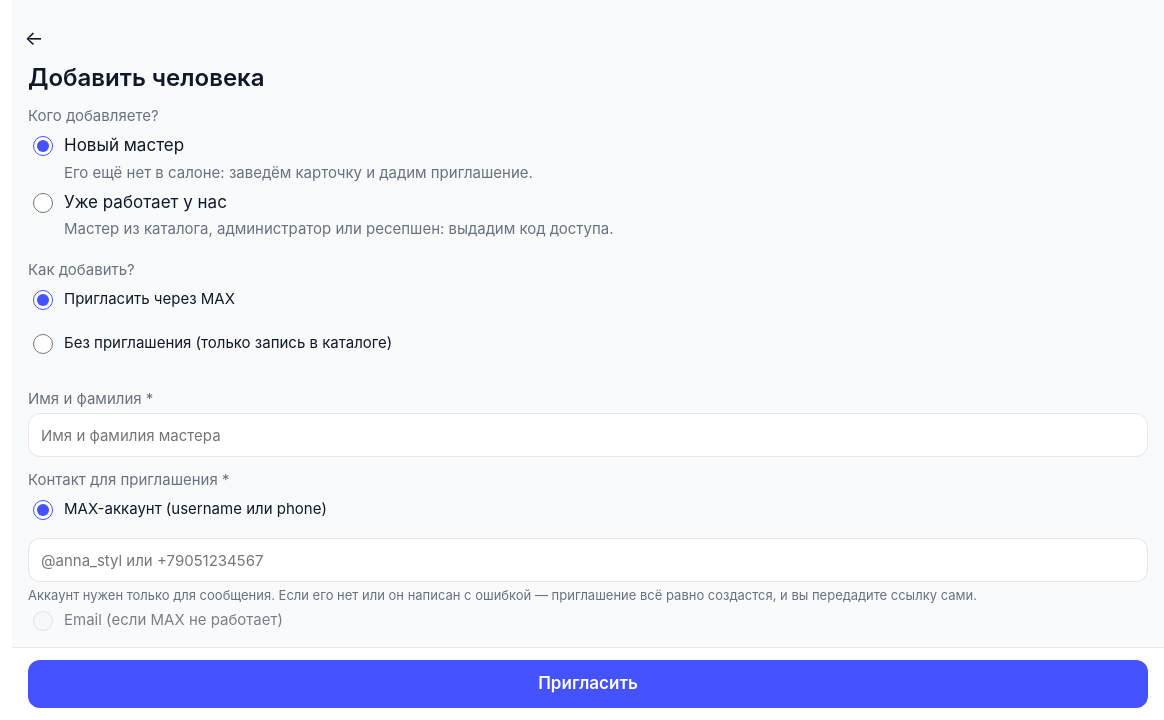
ссылка-приглашение › называет, почему веб-адреса нет, а не прячет блок (DRF-1079)
In the field labelled "Имя и фамилия *": (588, 435) [28,413,1148,457], type "Анна Петрова"
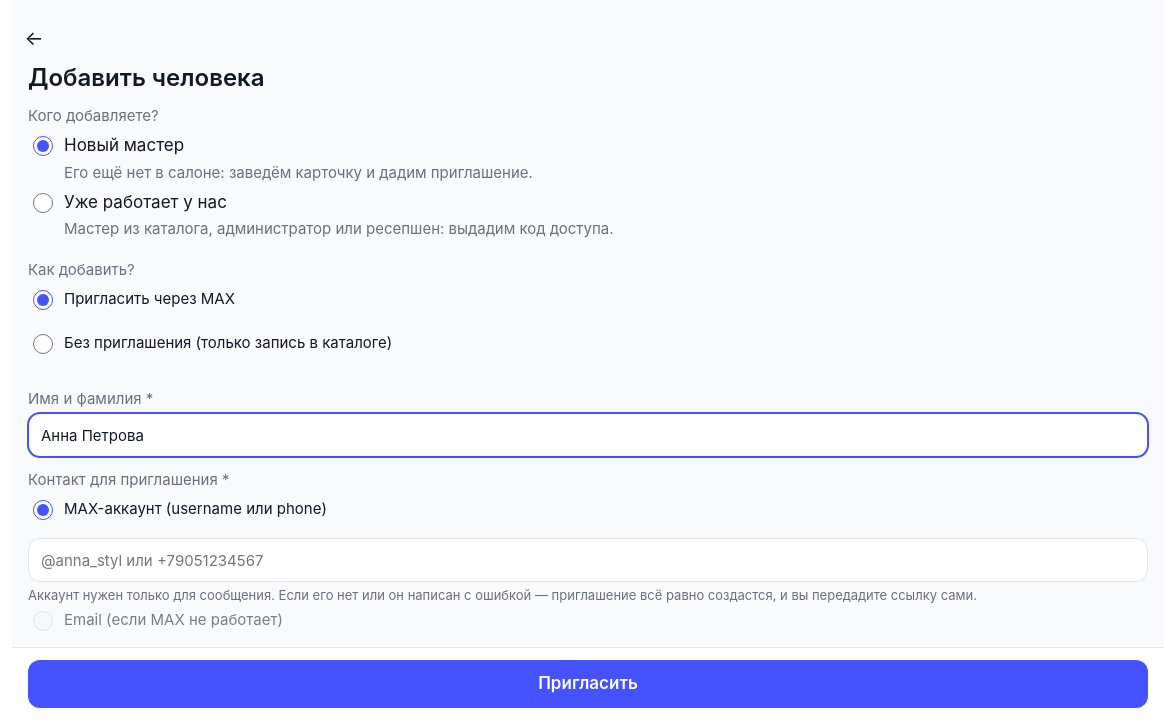
In the field with placeholder "@anna_styl или +79051234567": (588, 560) [28,538,1148,582], type "@anna_styl"
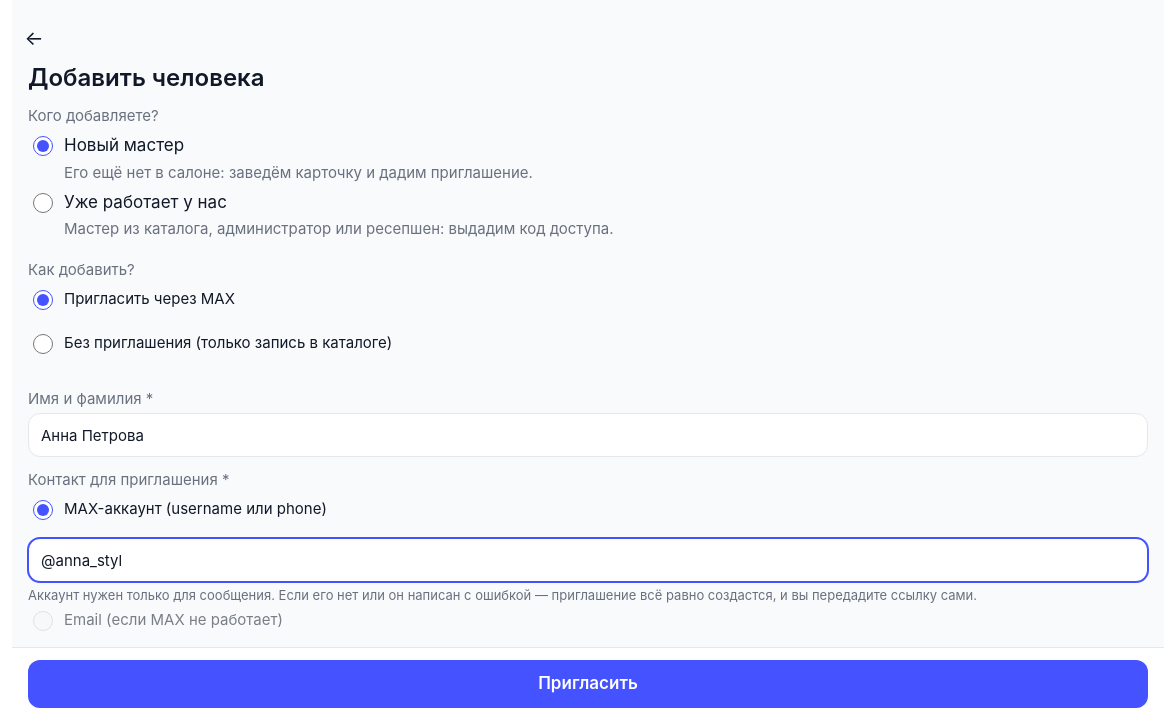
Click the button "Пригласить": (588, 684) [28,660,1148,708]
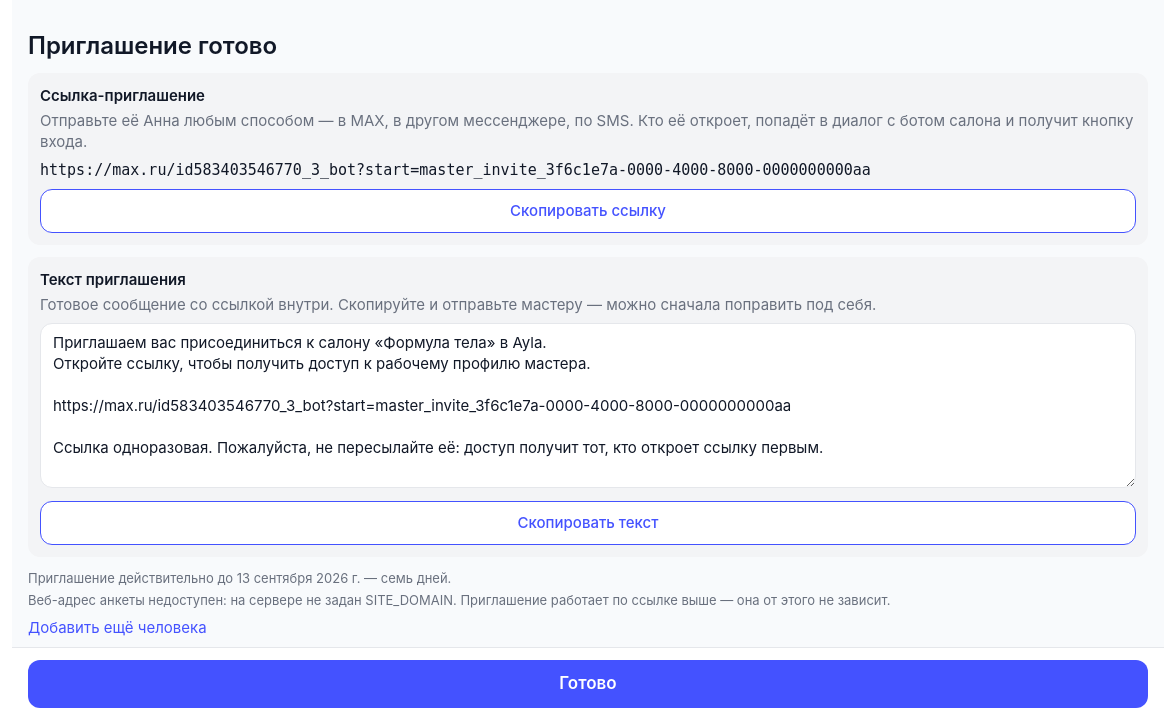
Result: the text with test id "fallback-unavailable" shows "SITE_DOMAIN" at [28,592,890,608]
